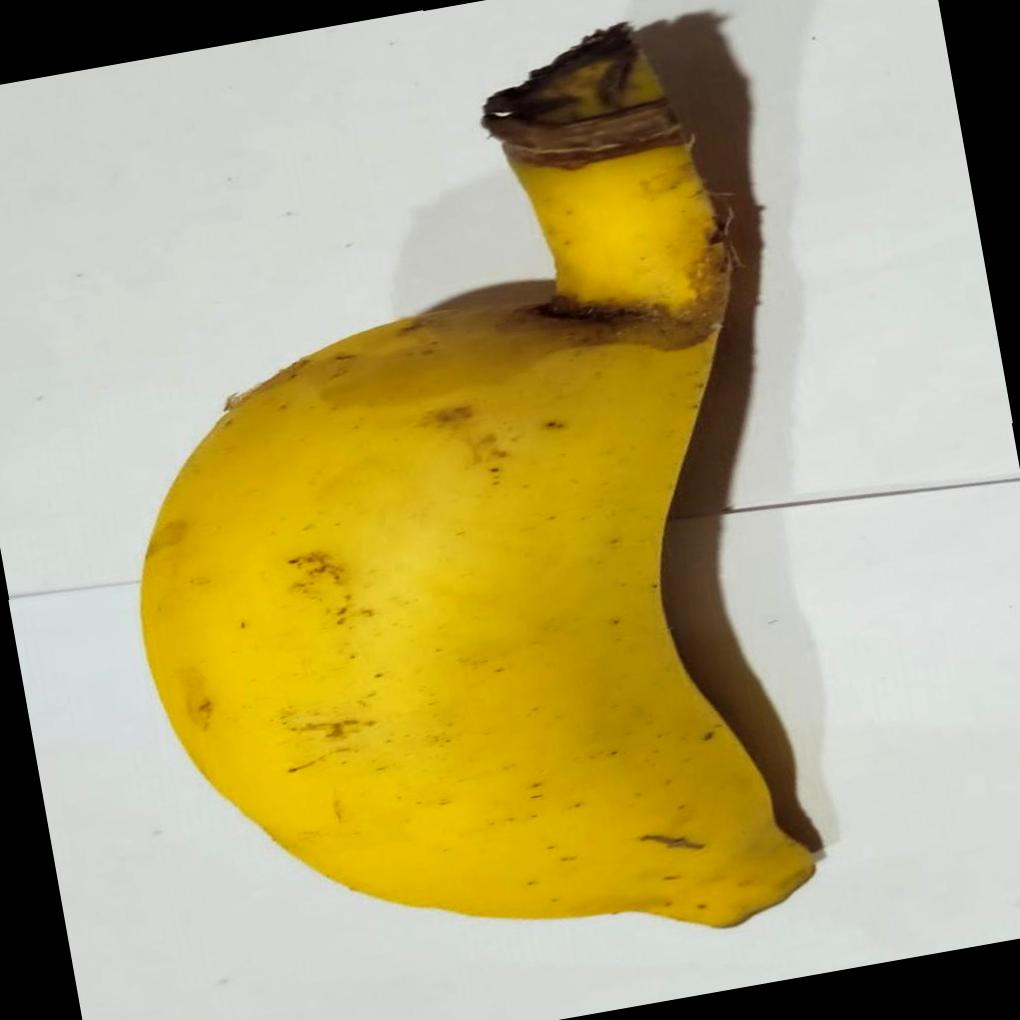Banana Ripe: (37, 10, 880, 1020)
